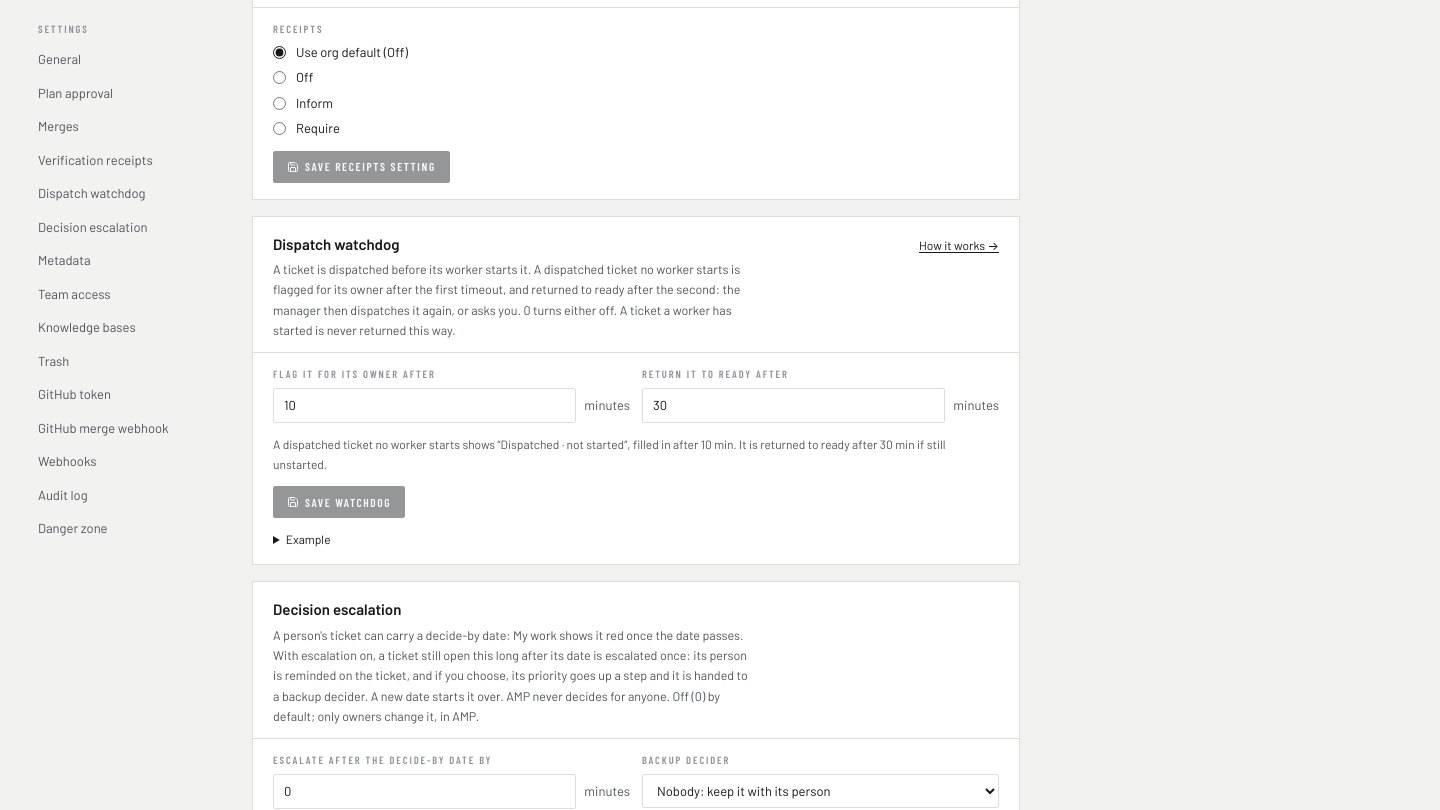
Test case: ProjectSettings dispatch watchdog › warns when the return timeout is not above the flag, so nothing is ever flagged
(page scrolled)
Type "40" into the field labelled "Flag it for its owner after" at (425, 406), box x1=273 y1=388 x2=576 y2=423
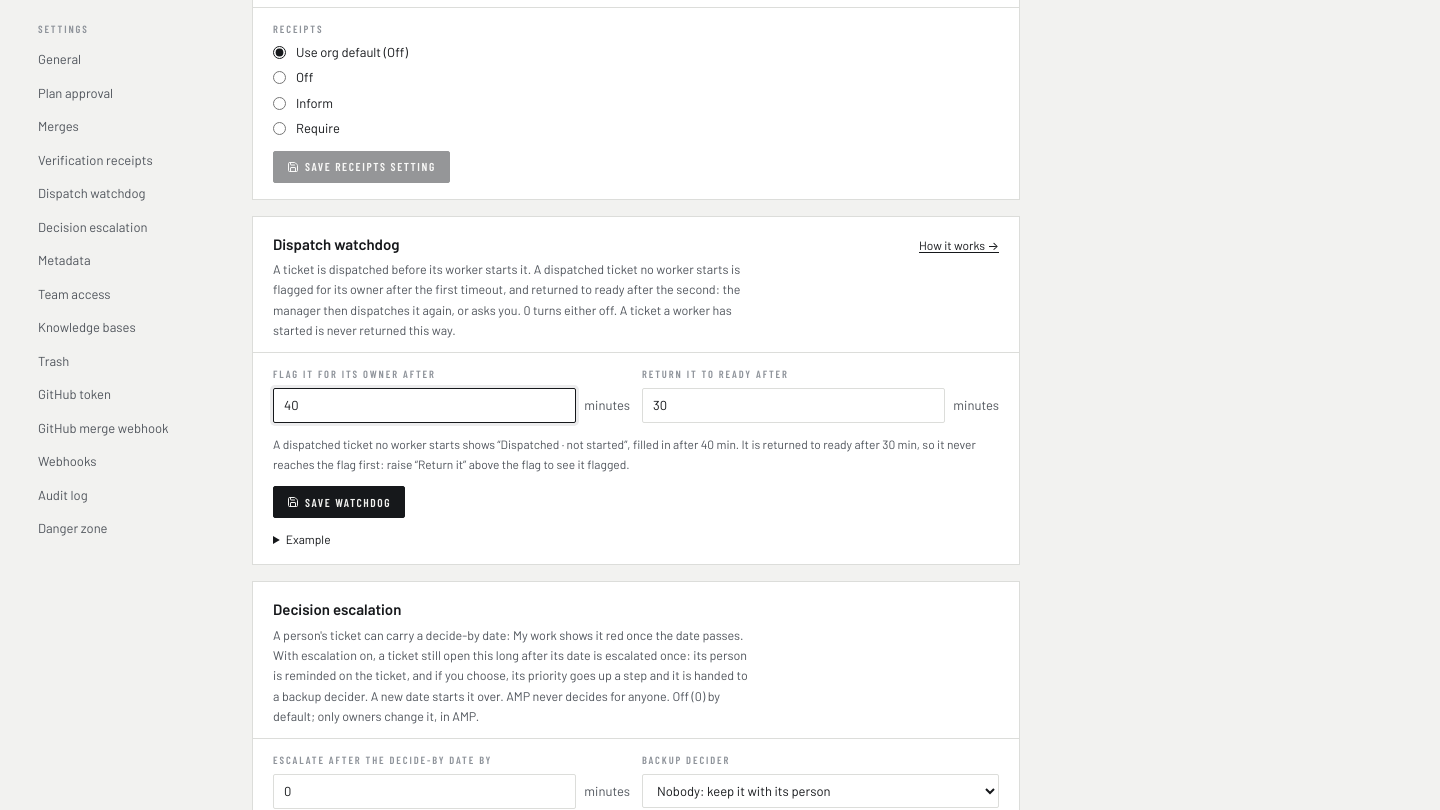
Now the text "never reaches the flag first" is shown, box x1=273 y1=437 x2=976 y2=471
